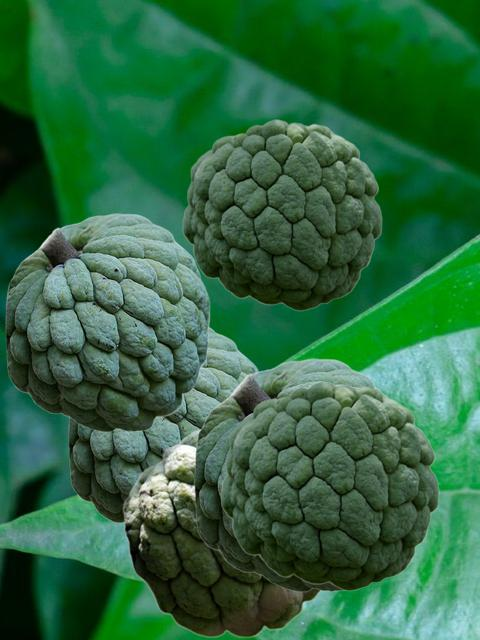atis: (220, 381, 438, 590), (194, 358, 388, 591), (5, 213, 209, 431), (122, 427, 321, 637), (182, 119, 381, 310), (68, 327, 258, 523)
